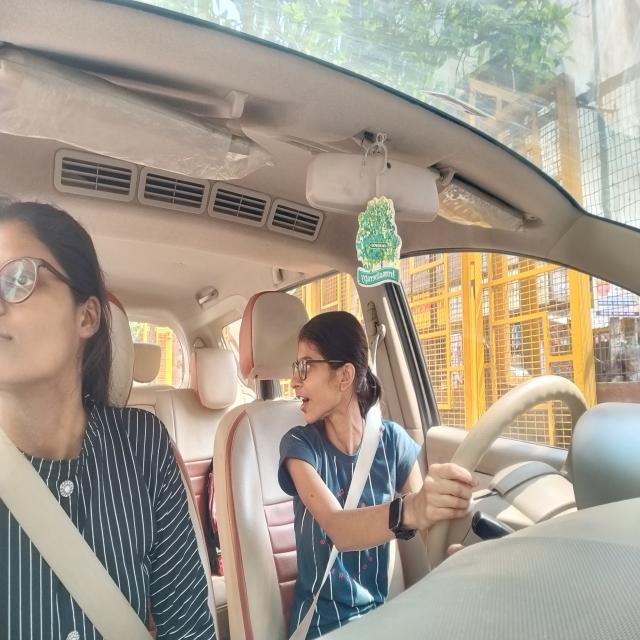LeftRight: (283, 297, 396, 472)
person: (0, 182, 113, 450)
talking: (292, 390, 318, 420)
